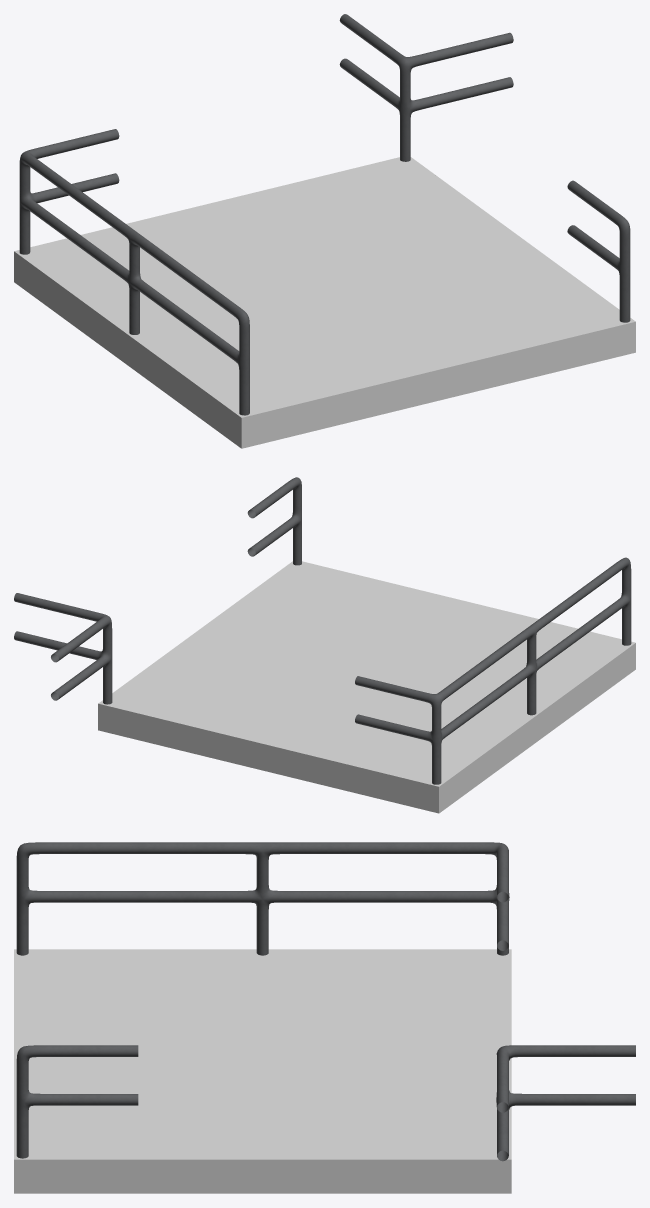
Rendered from RailingV6.fbx.
The picture shows the model from 3 angles, top to bottom: view 1: azimuth 30°, elevation 25°; view 2: azimuth 150°, elevation 25°; view 3: azimuth 270°, elevation 25°; orthographic projection. The views are drawn at different scales.
Parts seen in each view (by area): view 1: Floor, HandRailCornerOut01, HandRailCornerIn01, HandRailMid01, HandRailEndRight01, HandRailEndLeft01; view 2: Floor, HandRailCornerOut01, HandRailCornerIn01, HandRailMid01, HandRailEndRight01, HandRailEndLeft01; view 3: Floor, HandRailMid01, HandRailCornerOut01, HandRailEndRight01, HandRailEndLeft01, HandRailCornerIn01.
Boxes of the visible parts, x1,y1,x2,y2 form: Floor: (14,157,635,448); HandRailCornerOut01: (339,14,513,161); HandRailCornerIn01: (19,129,119,254); HandRailMid01: (73,190,193,334); HandRailEndRight01: (567,180,630,322); HandRailEndLeft01: (187,273,249,415); Floor: (98,561,635,813); HandRailCornerOut01: (14,593,112,704); HandRailCornerIn01: (355,662,486,784); HandRailMid01: (480,590,584,715); HandRailEndRight01: (247,477,301,565); HandRailEndLeft01: (578,557,631,645); Floor: (14,949,511,1193); HandRailMid01: (138,842,387,955); HandRailCornerOut01: (496,1045,635,1161); HandRailEndRight01: (16,1045,138,1158); HandRailEndLeft01: (16,842,138,955); HandRailCornerIn01: (387,842,509,955).
Bounding box in the file's own units: 500 × 128 × 500.
